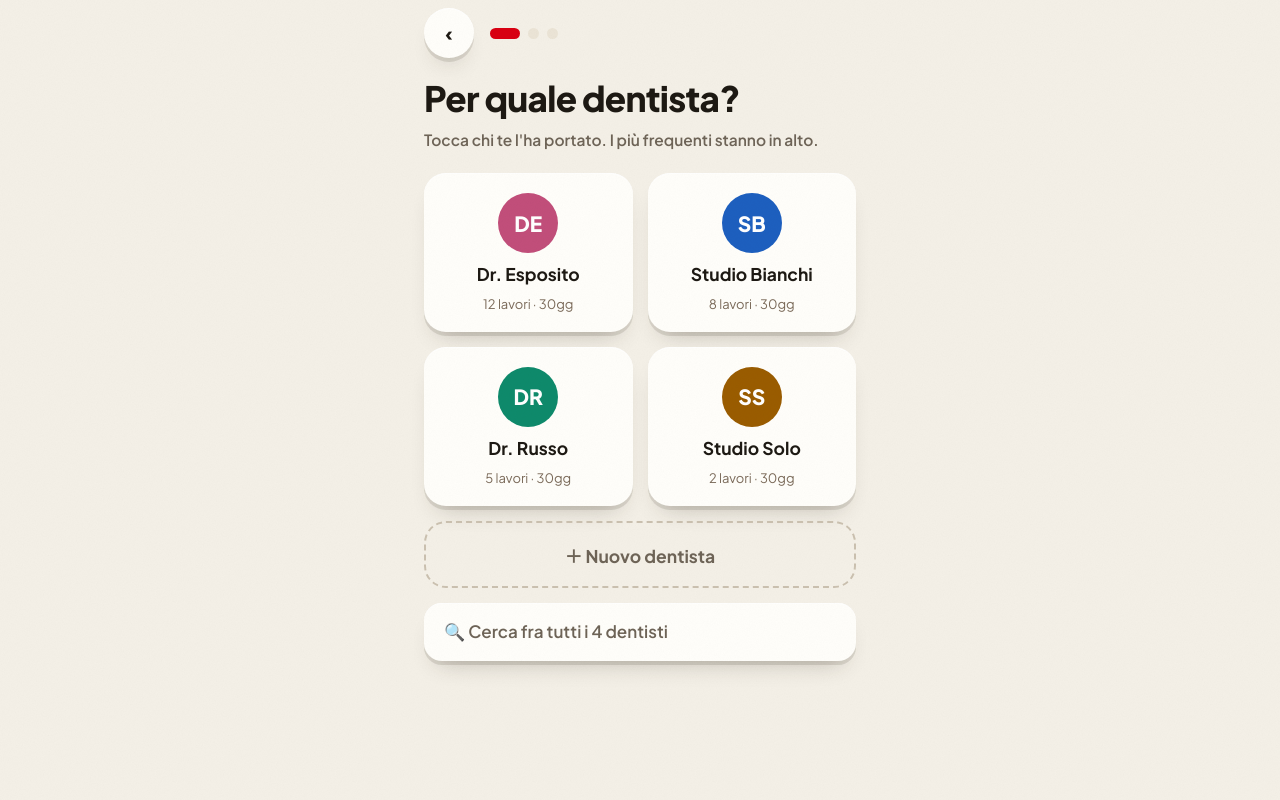
Test case: WizardNuovoLavoro — mini-foglio «Chi ha prescritto?» (Task 10, P37/D211) › studio "di uno solo" (studio_nome compilato, ZERO colleghi) → nessun foglio, si comporta come dottore singolo per il PRESCRITTORE
Click the button "SS Studio Solo 2 lavori · 30gg" at (752, 426), box x1=648 y1=347 x2=856 y2=506
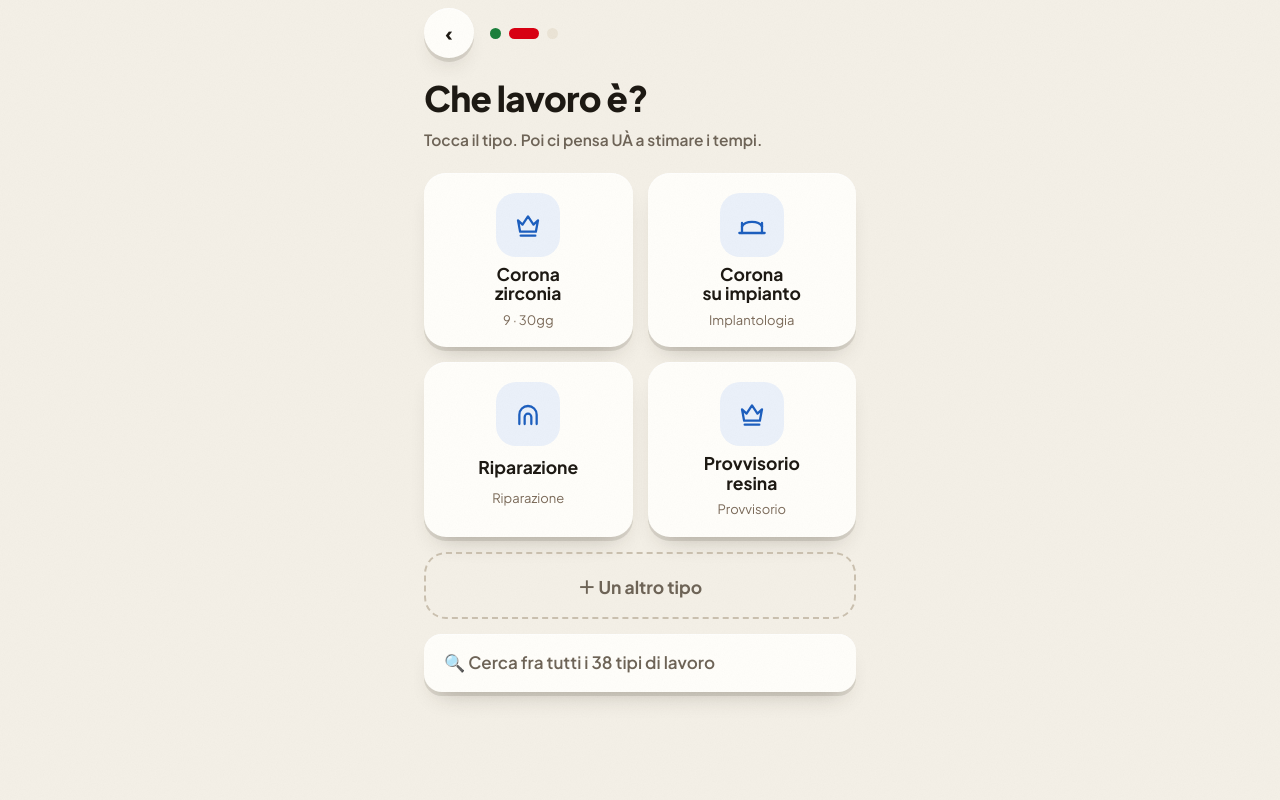
Now the heading "Che lavoro è?" is shown, box x1=424 y1=76 x2=648 y2=120
